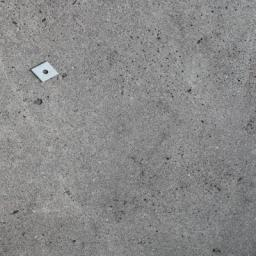FOD: (28, 59, 62, 86)
